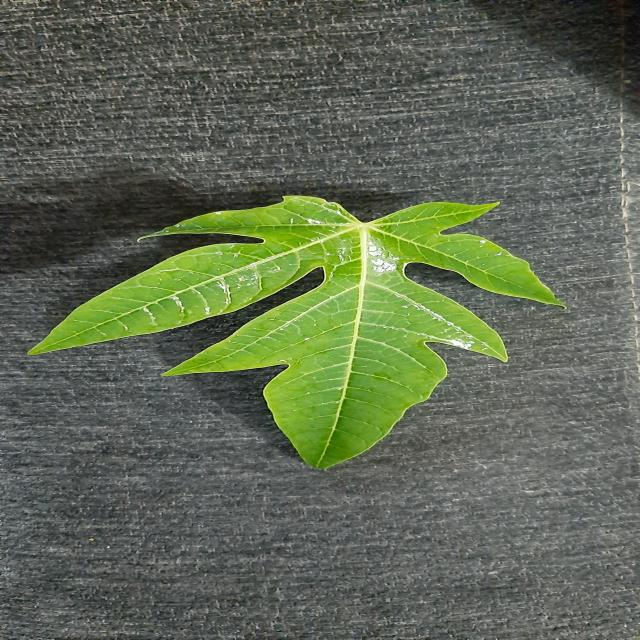papaya: (87, 196, 561, 468)
